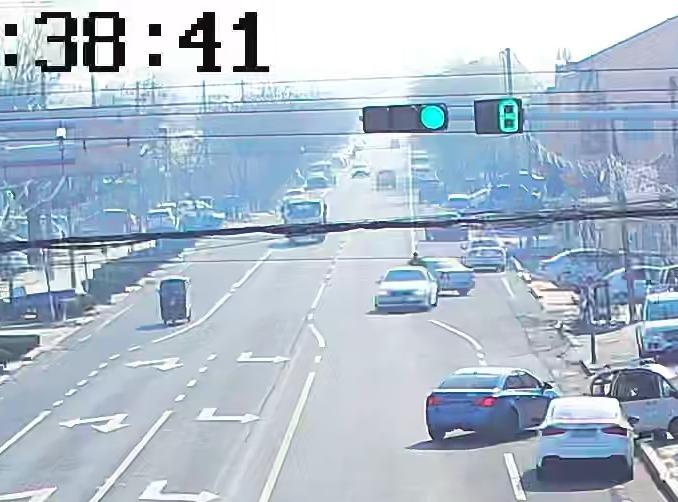green: (415, 105, 453, 131)
greentime: (488, 101, 527, 136)
